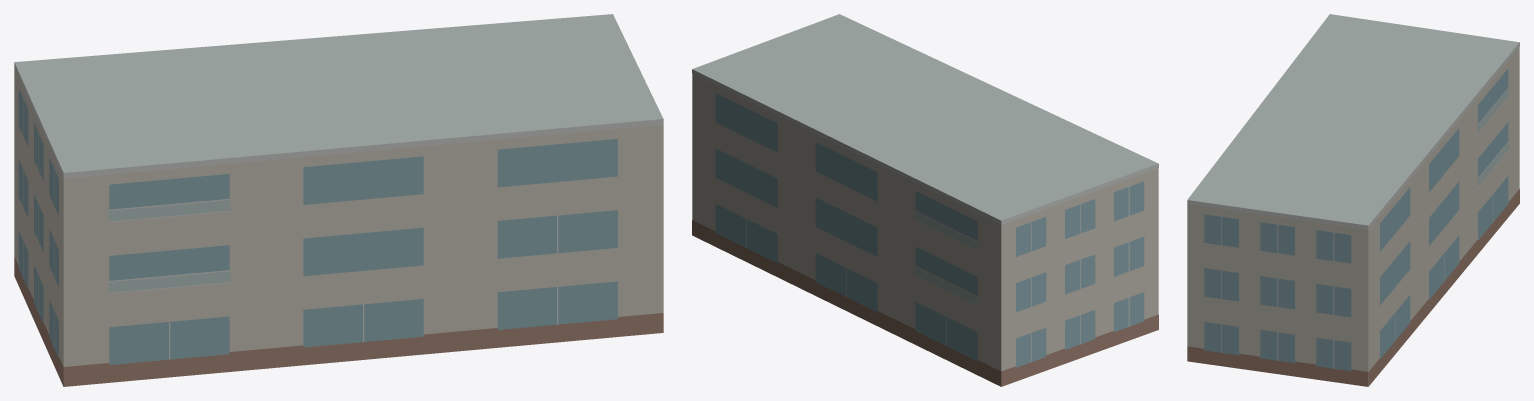
Rendered from survey-upis-32531858.glb.
3 renders of one model, left to right at view 1: azimuth 30°, elevation 25°; view 2: azimuth 150°, elevation 25°; view 3: azimuth 270°, elevation 25°, orthographic. The views are drawn at different scales.
Parts seen in each view (by area): view 1: survey-upis-32531858.tmp; view 2: survey-upis-32531858.tmp; view 3: survey-upis-32531858.tmp.
Part boxes in pixels (x1,y1,x2,y2): survey-upis-32531858.tmp: [14, 14, 663, 386]; survey-upis-32531858.tmp: [692, 14, 1158, 386]; survey-upis-32531858.tmp: [1187, 14, 1519, 386].
Bounding box in the file's own units: 25.75 × 9.15 × 17.11.
